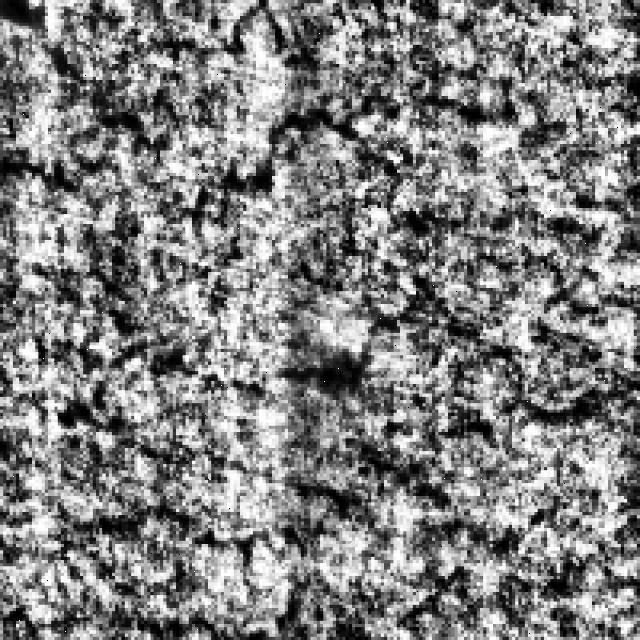Pitted_Surface: (262, 202, 634, 502), (7, 0, 534, 211), (67, 461, 563, 637)
